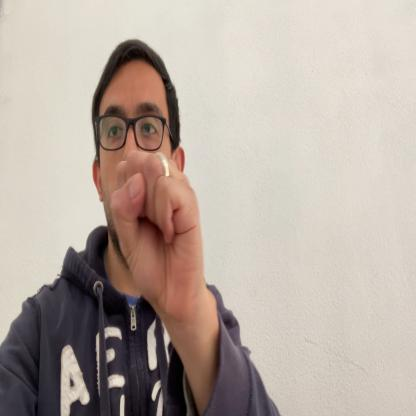S: (112, 146, 205, 324)
